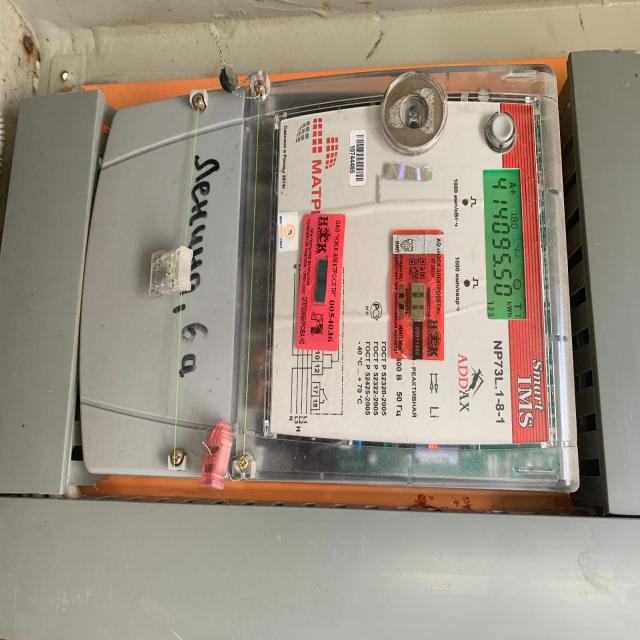Display: (480, 167, 529, 322)
meter_matrica: (86, 66, 606, 524)
meter_number: (350, 132, 370, 186)
seal_imp: (389, 228, 447, 356), (296, 208, 347, 352)
